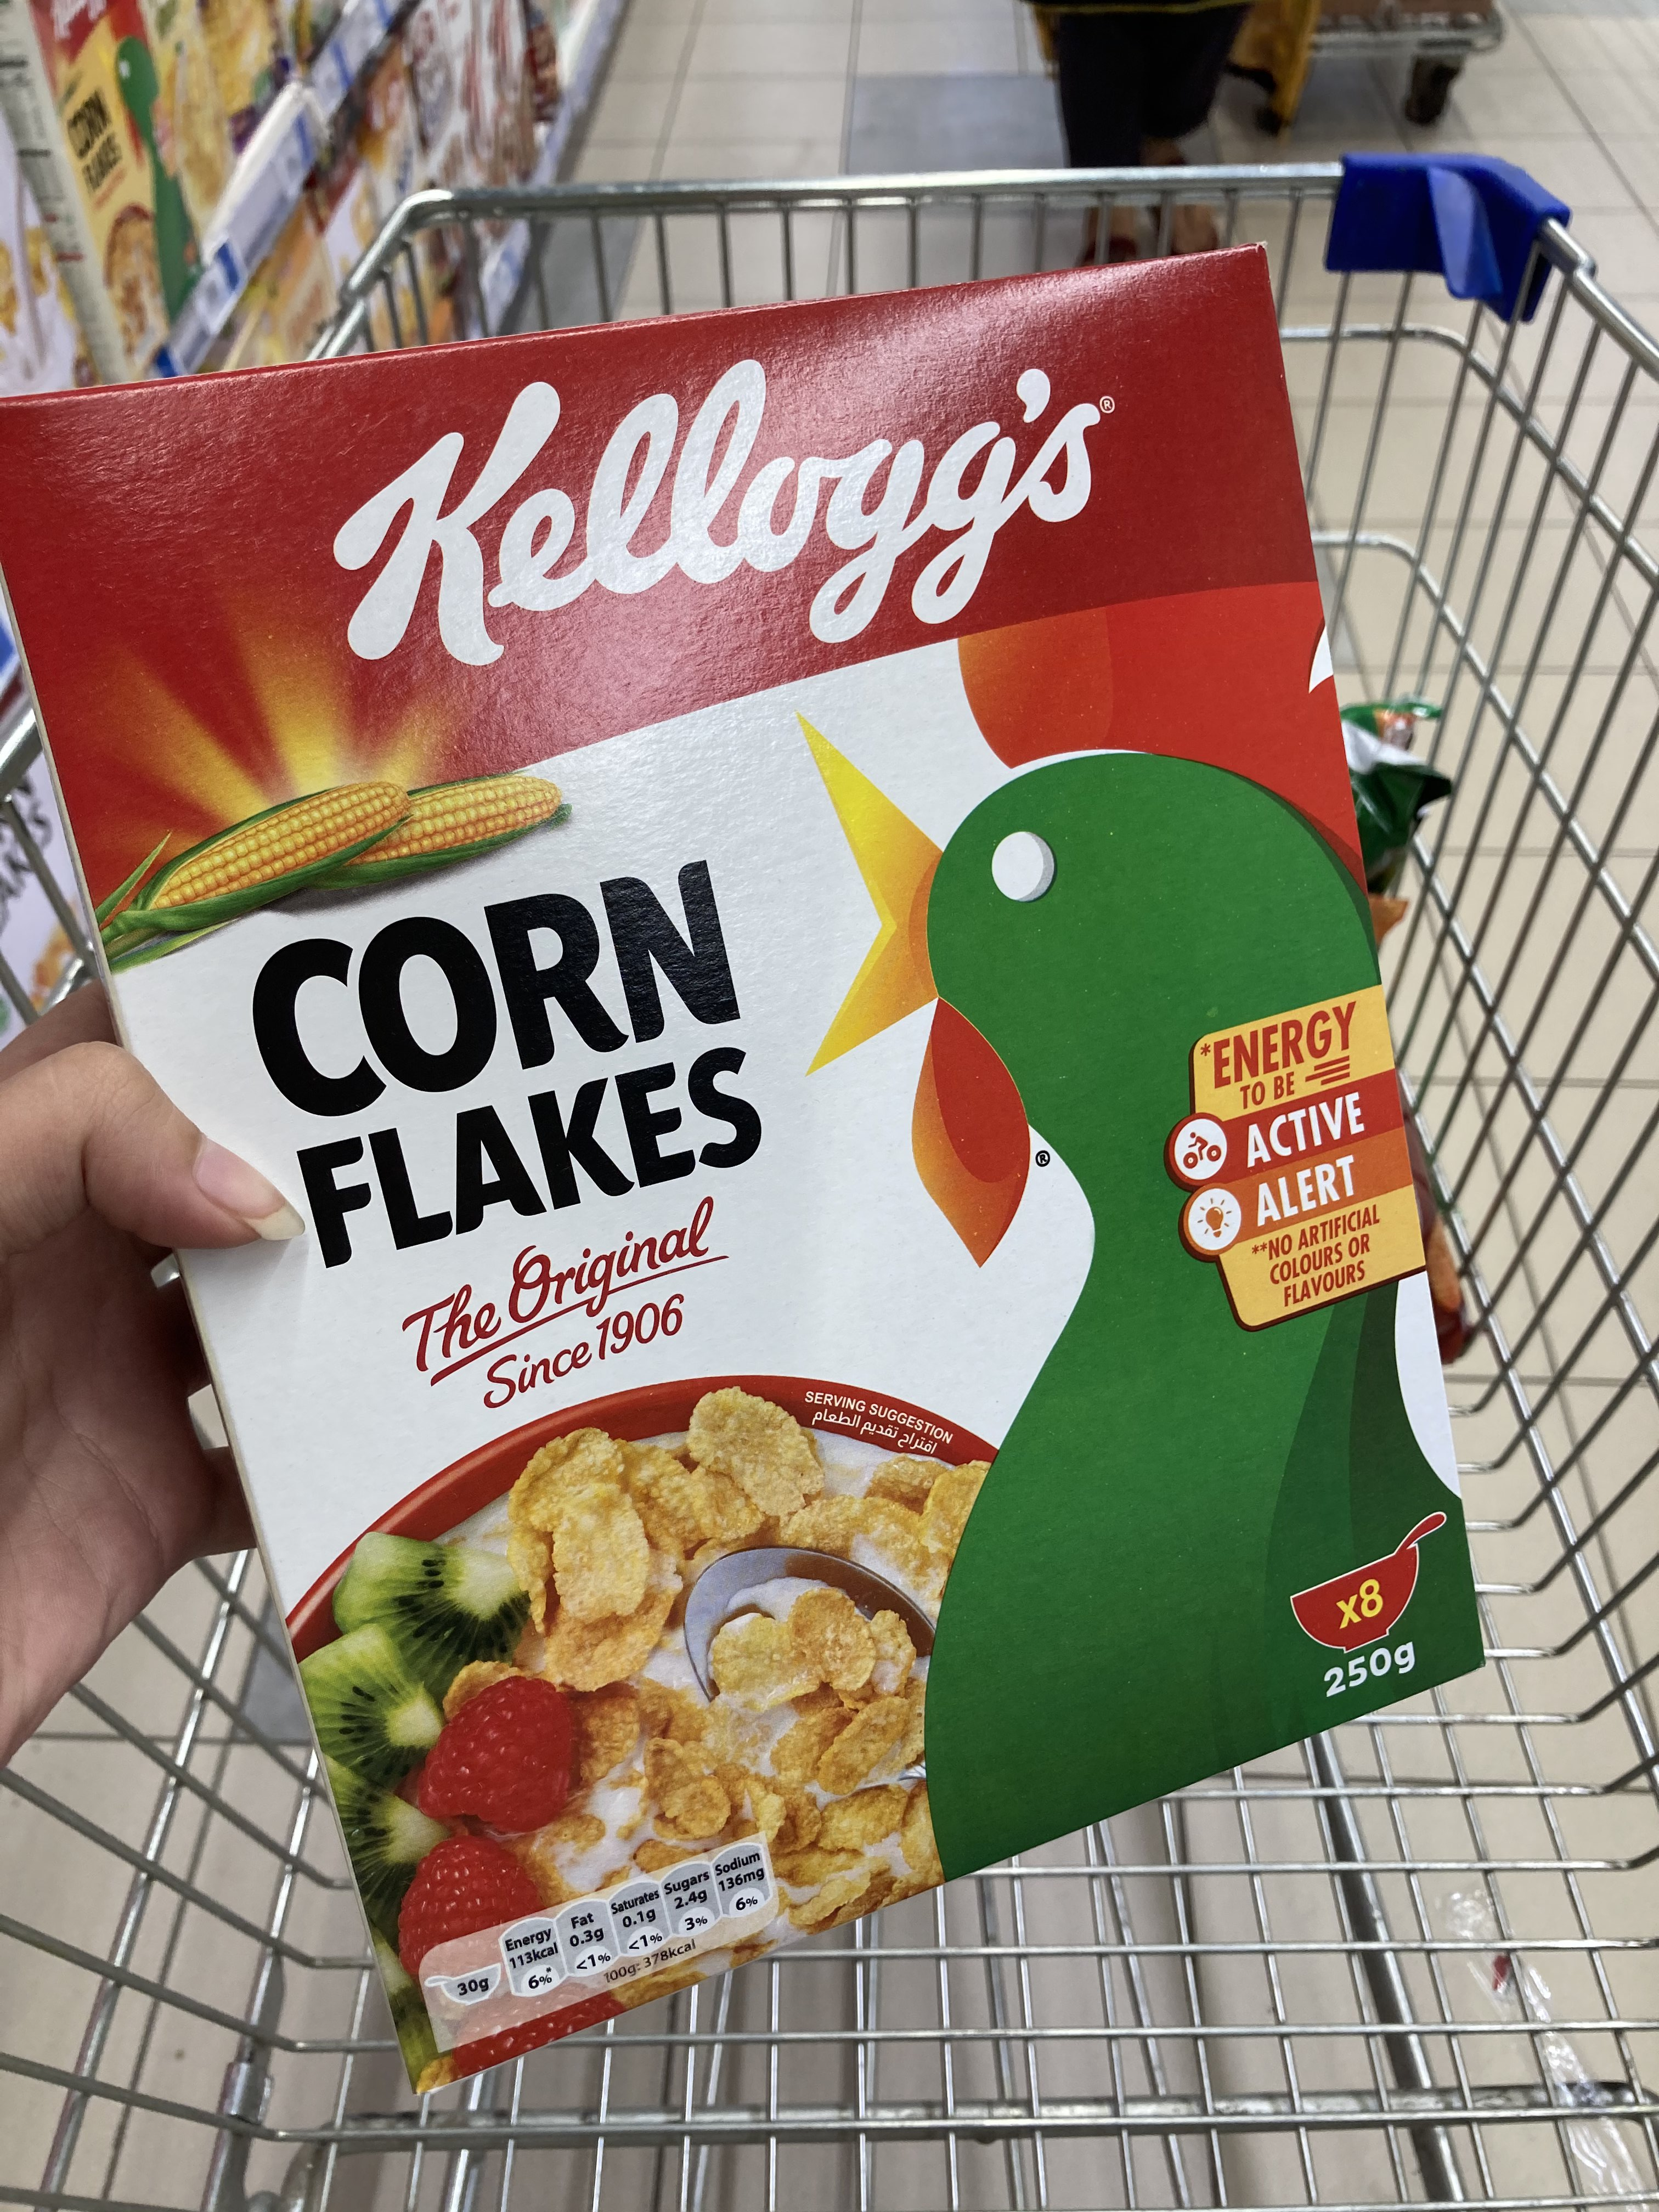Kellogg's Corn Flakes: (12, 246, 1493, 2094)
